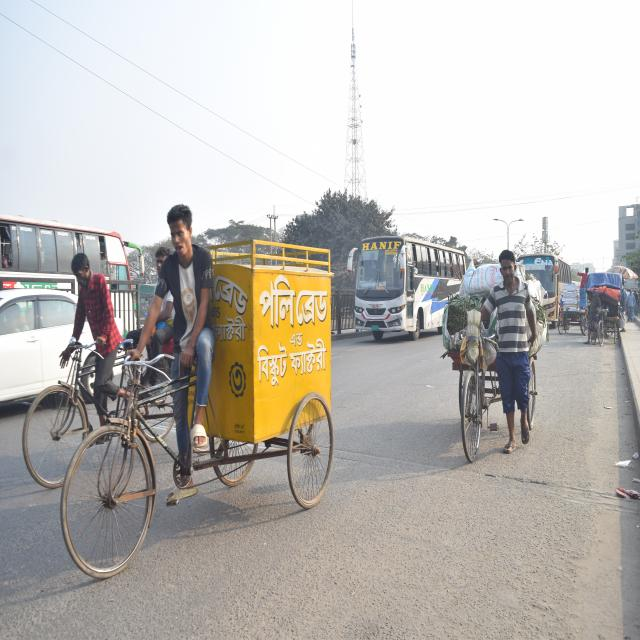bus: (352, 224, 458, 347), (0, 210, 140, 289), (519, 246, 567, 327)
car: (0, 279, 124, 417)
